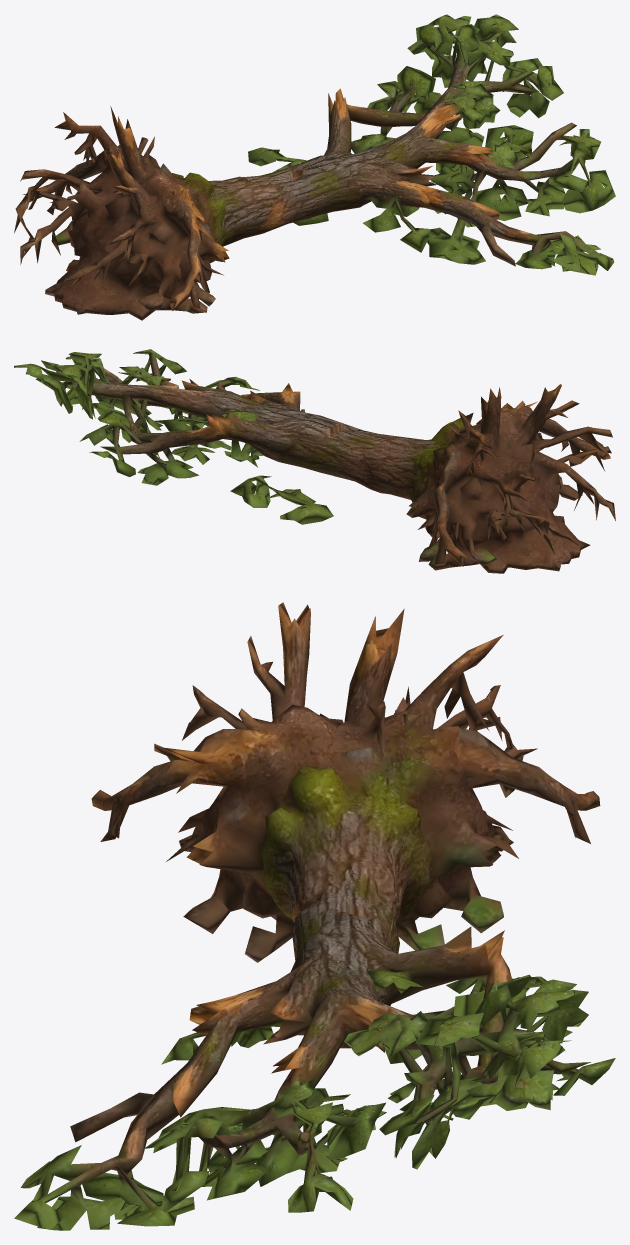
File: devrik-agac.glb
3 renders of one model, top to bottom at view 1: azimuth 30°, elevation 25°; view 2: azimuth 150°, elevation 25°; view 3: azimuth 270°, elevation 25°, orthographic. The views are drawn at different scales.
Parts seen in each view (by area): view 1: tripo_node_40c055a9-ee44-4f50-bfcd-524617215caa; view 2: tripo_node_40c055a9-ee44-4f50-bfcd-524617215caa; view 3: tripo_node_40c055a9-ee44-4f50-bfcd-524617215caa.
Part boxes in pixels (x1,y1,x2,y2): tripo_node_40c055a9-ee44-4f50-bfcd-524617215caa: (14, 14, 615, 320); tripo_node_40c055a9-ee44-4f50-bfcd-524617215caa: (14, 349, 615, 573); tripo_node_40c055a9-ee44-4f50-bfcd-524617215caa: (14, 602, 615, 1230).
Size of the model in its own units: 0.9597 by 0.3094 by 0.5337.
Materials: 1 (1 with a texture image).
